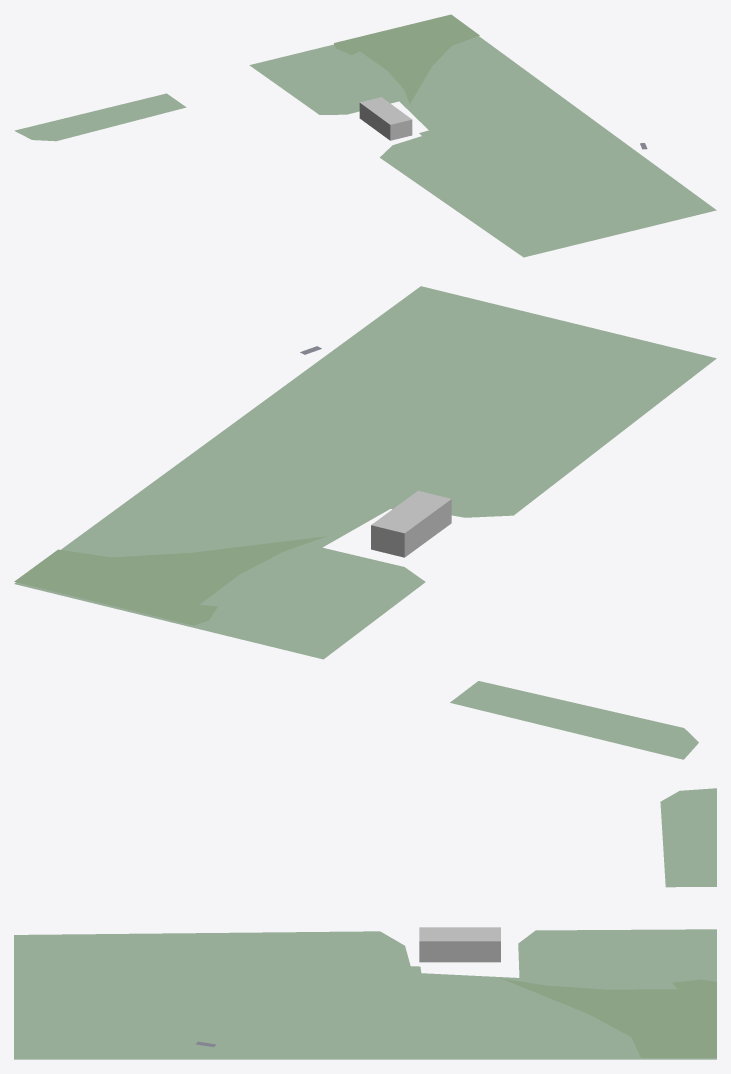
Rendered from 121_118_mid.glb.
3 views of the same model, one above another, from view 1: azimuth 30°, elevation 25°; view 2: azimuth 150°, elevation 25°; view 3: azimuth 270°, elevation 25° (orthographic). The views are drawn at different scales.
Size of the model in its own units: 479 by 24.6 by 500.
